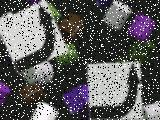Left: (0, 0, 68, 74), (88, 61, 142, 120)
